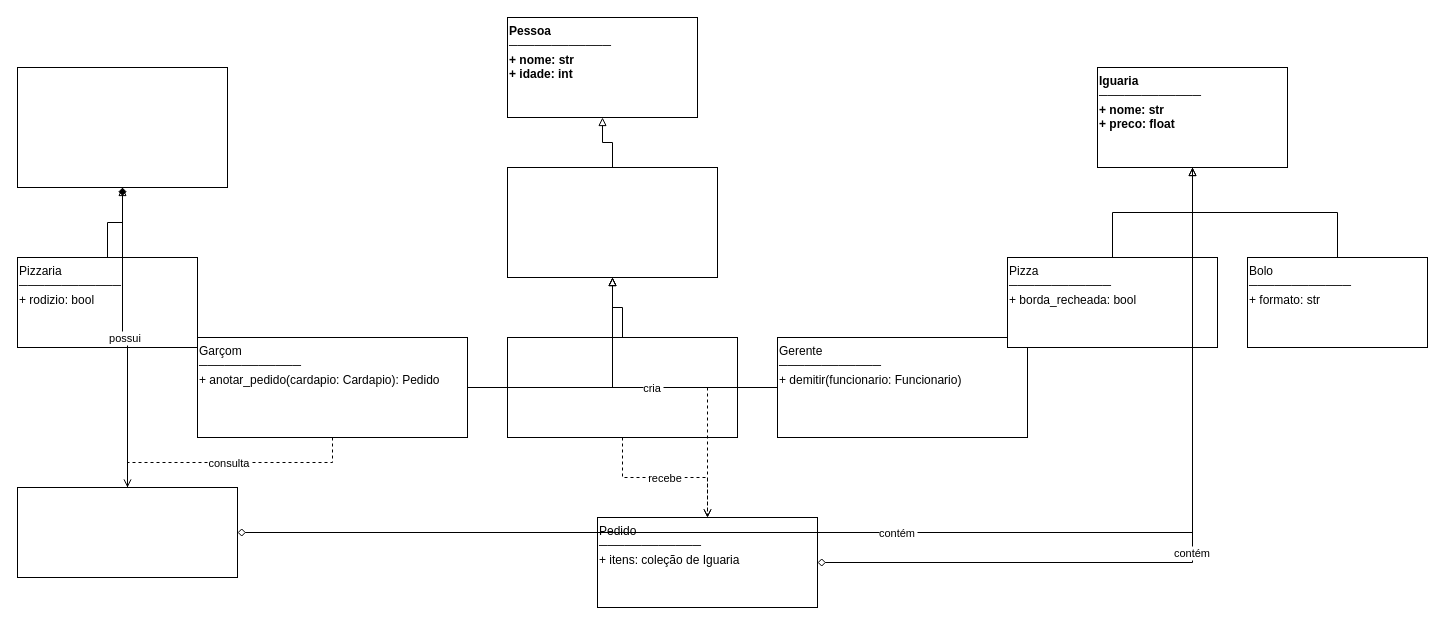
Image size: 1445x625. Some labels were removed from this diagram. Here are the shapes that lost their labels. From the top down, the box of each, then its label:
(16, 66, 228, 188): Restaurante ──────────── + nome: str + endereco: str + telefone: str
(506, 166, 718, 278): Funcionário ──────────── + salario: float + carga_horaria: int
(506, 336, 738, 438): Chefe de Cozinha ──────────── + preparar(pedido: Pedido)
(16, 486, 238, 578): Cardapio ──────────── + itens: coleção de Iguaria
